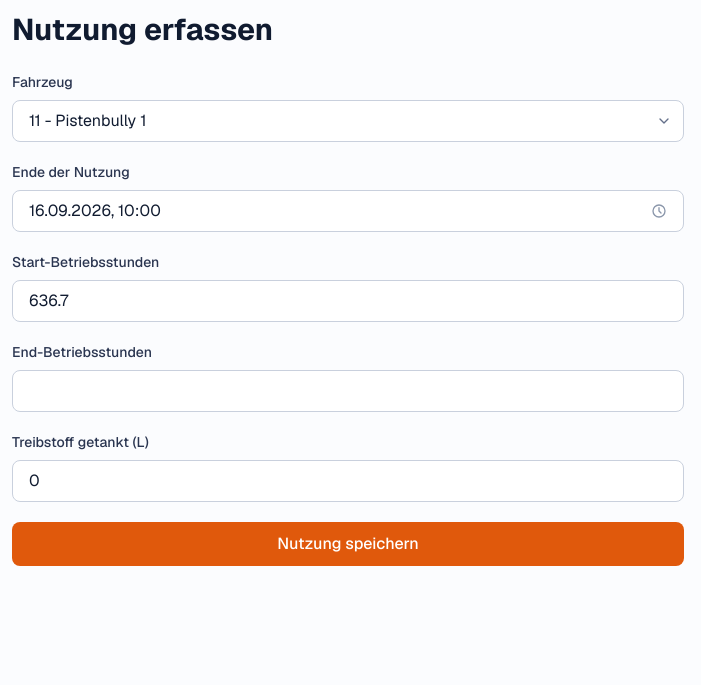
Test: Nutzung erfassen › input validation › shows a specific "at most 1 decimal" error under the End field, not just a generic banner
Expected: the number field with id "startOperatingHours" is enabled, x1=12 y1=280 x2=684 y2=322
Expected: the number field with id "startOperatingHours" is not empty, x1=12 y1=280 x2=684 y2=322
Type "3380.4654" into the number field with id "endOperatingHours" at (348, 391), box x1=12 y1=370 x2=684 y2=412
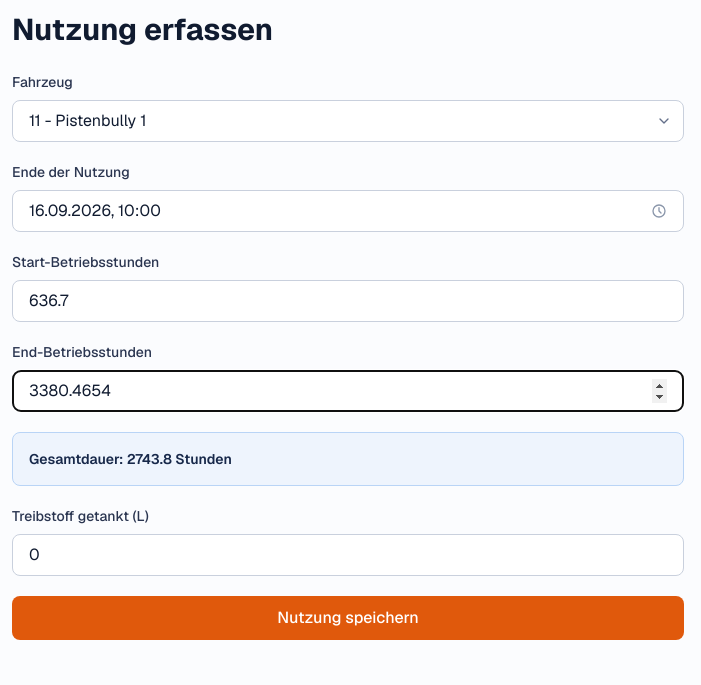
Submit the form
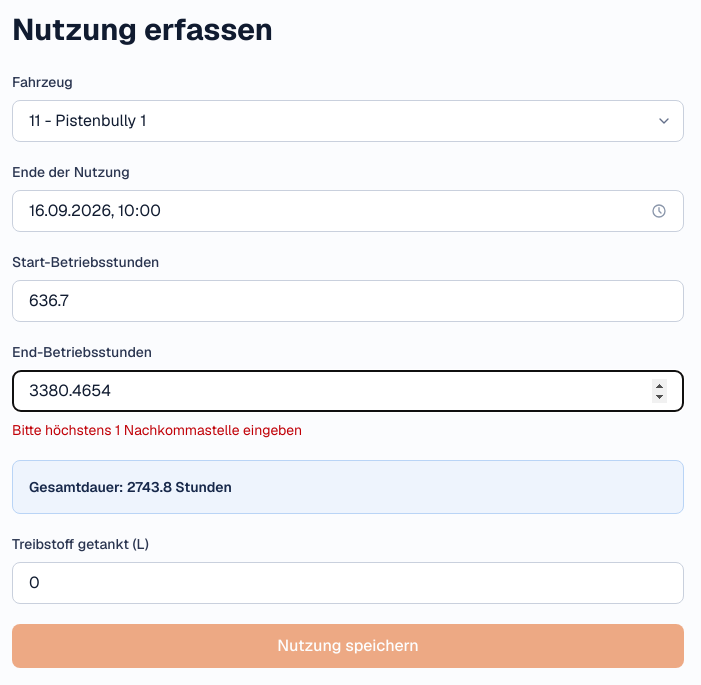
Now the text "Bitte höchstens 1 Nachkommastelle eingeben" is shown once, box x1=12 y1=421 x2=302 y2=439
